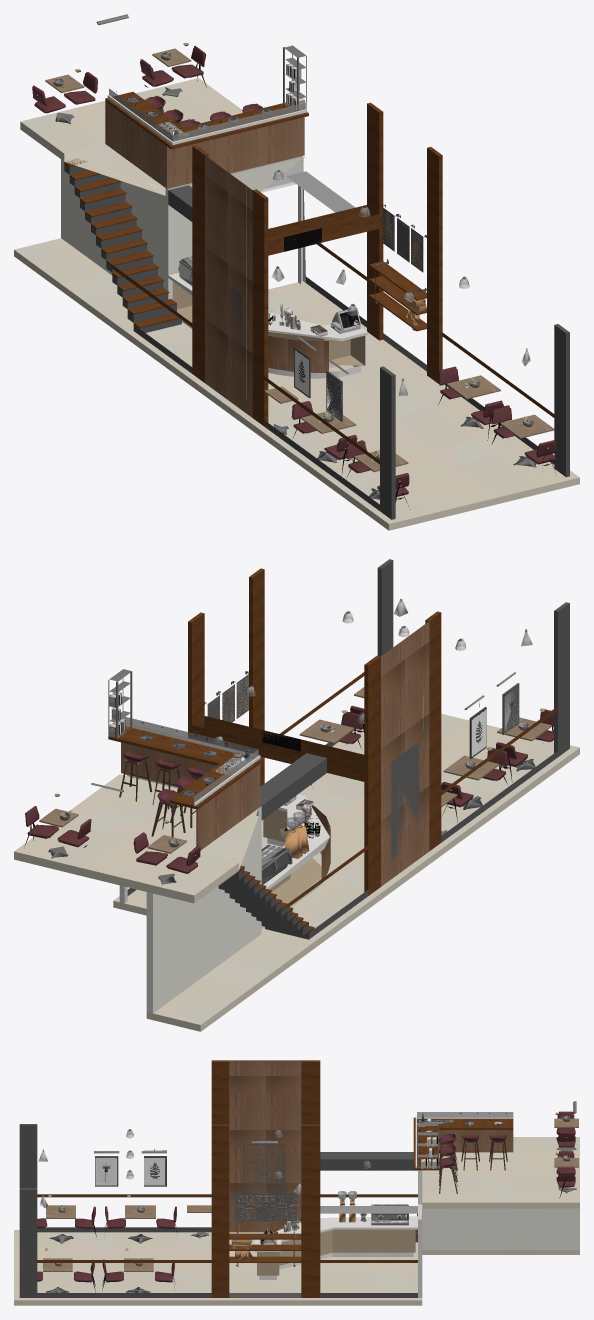
File: hero-mobile.glb
3 renders of one model, top to bottom at view 1: azimuth 30°, elevation 25°; view 2: azimuth 150°, elevation 25°; view 3: azimuth 270°, elevation 25°, orthographic. The views are drawn at different scales.
Parts seen in each view (by area): view 1: Try 7; view 2: Try 7; view 3: Try 7.
Boxes of the visible parts, box(x1,y1,x2,y2) form: Try 7: box(14, 14, 579, 530); Try 7: box(14, 559, 579, 1031); Try 7: box(14, 1060, 579, 1305).
Size of the model in its own units: 166 by 195 by 565.
81 materials, 42 textured.
